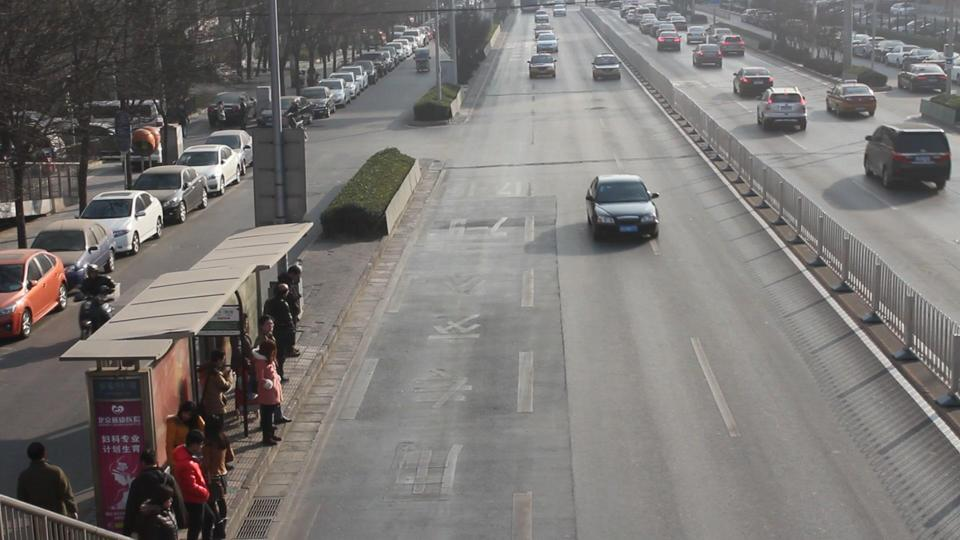car: (0, 248, 69, 342), (862, 123, 954, 191), (82, 190, 165, 264), (28, 219, 119, 286), (584, 173, 661, 240), (129, 164, 210, 225), (175, 143, 243, 196), (755, 86, 809, 131), (206, 129, 256, 173), (825, 82, 877, 119), (897, 63, 950, 94), (210, 92, 251, 127), (731, 66, 774, 97), (300, 86, 338, 117), (317, 77, 355, 106), (592, 54, 622, 81), (692, 44, 725, 68), (527, 54, 559, 78), (717, 33, 746, 56), (656, 30, 685, 52), (536, 33, 559, 52), (686, 26, 708, 45), (535, 11, 551, 26), (552, 2, 567, 16)
person: (14, 442, 81, 540), (168, 436, 216, 540), (123, 456, 179, 540), (255, 343, 289, 451), (203, 341, 238, 444), (262, 282, 301, 360), (184, 397, 219, 475), (88, 263, 112, 327)
